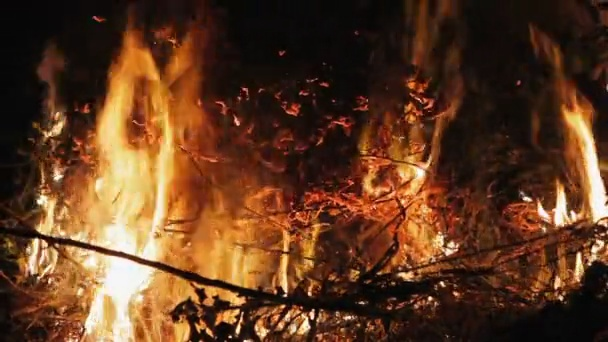fire: (19, 35, 179, 342), (536, 98, 608, 226), (551, 240, 608, 297), (397, 154, 430, 191), (277, 307, 315, 335), (444, 243, 459, 254)
